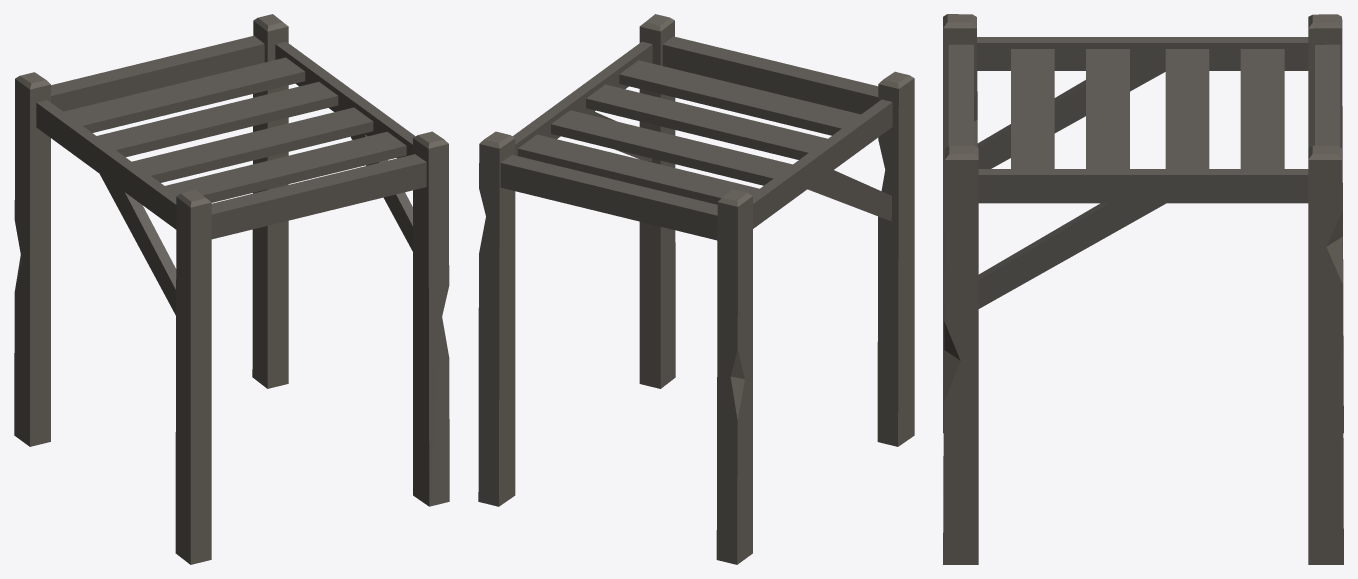
The model's file is SM_Bld_Village_ClothCover_03.fbx.
The picture shows the model from 3 angles, left to right: view 1: azimuth 30°, elevation 25°; view 2: azimuth 150°, elevation 25°; view 3: azimuth 270°, elevation 25°; orthographic projection. The views are drawn at different scales.
Visible parts, largest first — view 1: SM_Bld_Village_ClothCover_03; view 2: SM_Bld_Village_ClothCover_03; view 3: SM_Bld_Village_ClothCover_03.
Boxes of the visible parts, bbox=[...] form: SM_Bld_Village_ClothCover_03: bbox=[14, 14, 449, 564]; SM_Bld_Village_ClothCover_03: bbox=[478, 14, 914, 564]; SM_Bld_Village_ClothCover_03: bbox=[943, 14, 1343, 564].
Bounding box in the file's own units: 214 × 285 × 253.
